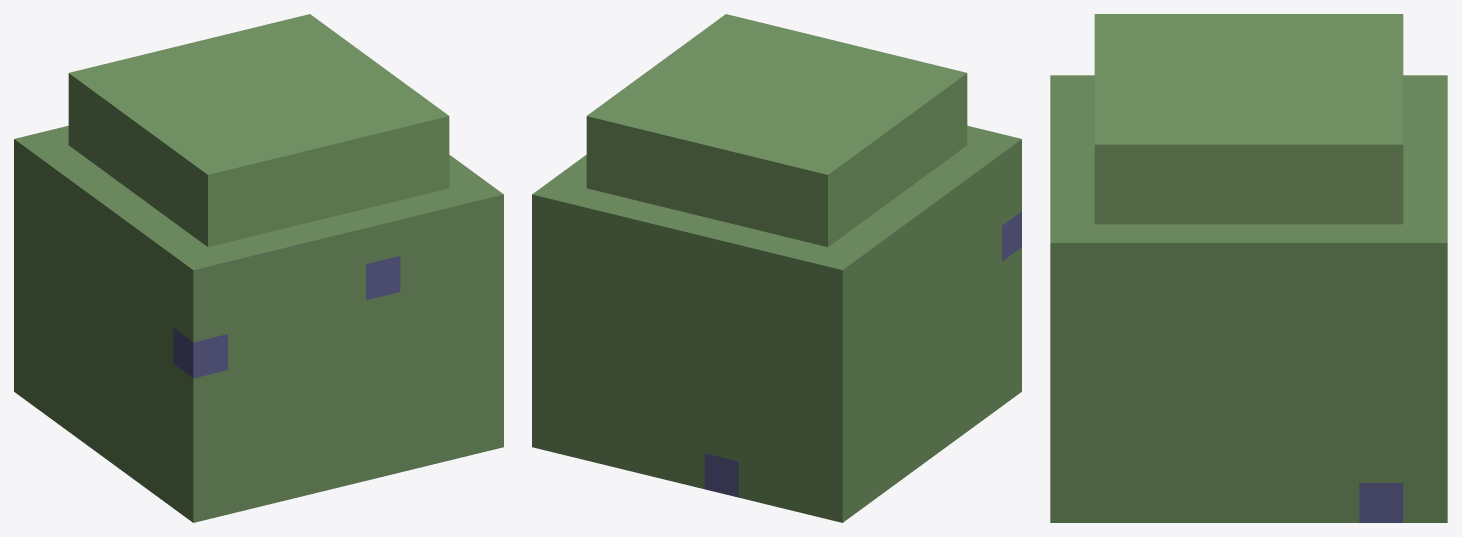
File: arandano_04.glb
3 views of the same model, side by side, from view 1: azimuth 30°, elevation 25°; view 2: azimuth 150°, elevation 25°; view 3: azimuth 270°, elevation 25° (orthographic). The views are drawn at different scales.
Visible parts, largest first — view 1: arandano_04; view 2: arandano_04; view 3: arandano_04.
Part boxes in pixels (x1,y1,x2,y2): arandano_04: [14, 14, 503, 522]; arandano_04: [532, 14, 1021, 522]; arandano_04: [1050, 14, 1447, 522].
Bounding box in the file's own units: 0.9 × 0.9 × 0.9.
